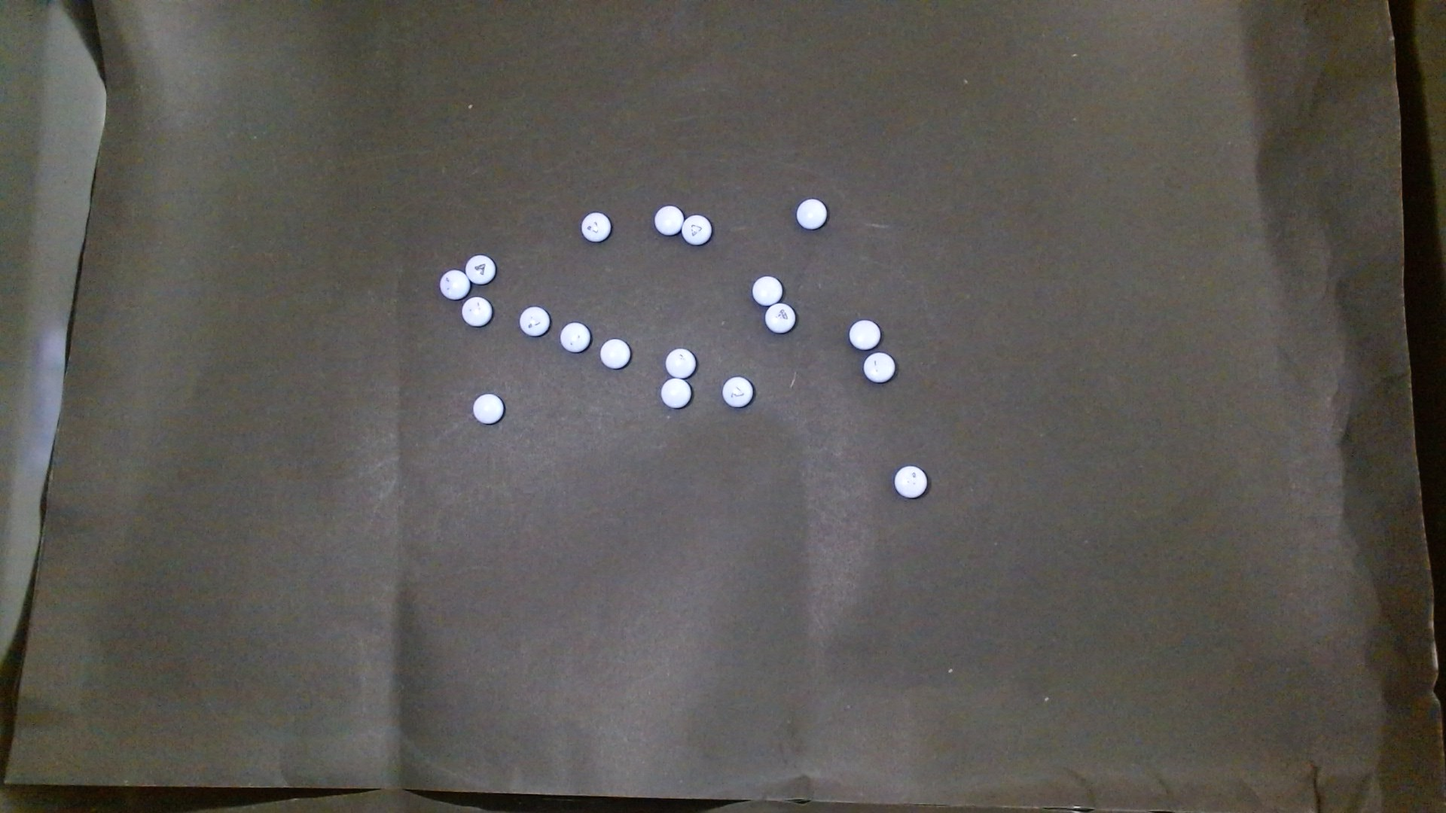Circle: (893, 464, 928, 498), (721, 376, 753, 409), (862, 351, 895, 382), (765, 302, 796, 333), (465, 254, 496, 285), (849, 318, 880, 349), (660, 378, 691, 409), (796, 198, 827, 229), (472, 393, 503, 424), (682, 214, 712, 245), (438, 269, 468, 300), (560, 321, 590, 352), (581, 211, 611, 242), (752, 275, 782, 306), (600, 338, 630, 369), (666, 347, 696, 377), (519, 306, 549, 336), (462, 296, 492, 326), (654, 205, 683, 236)
